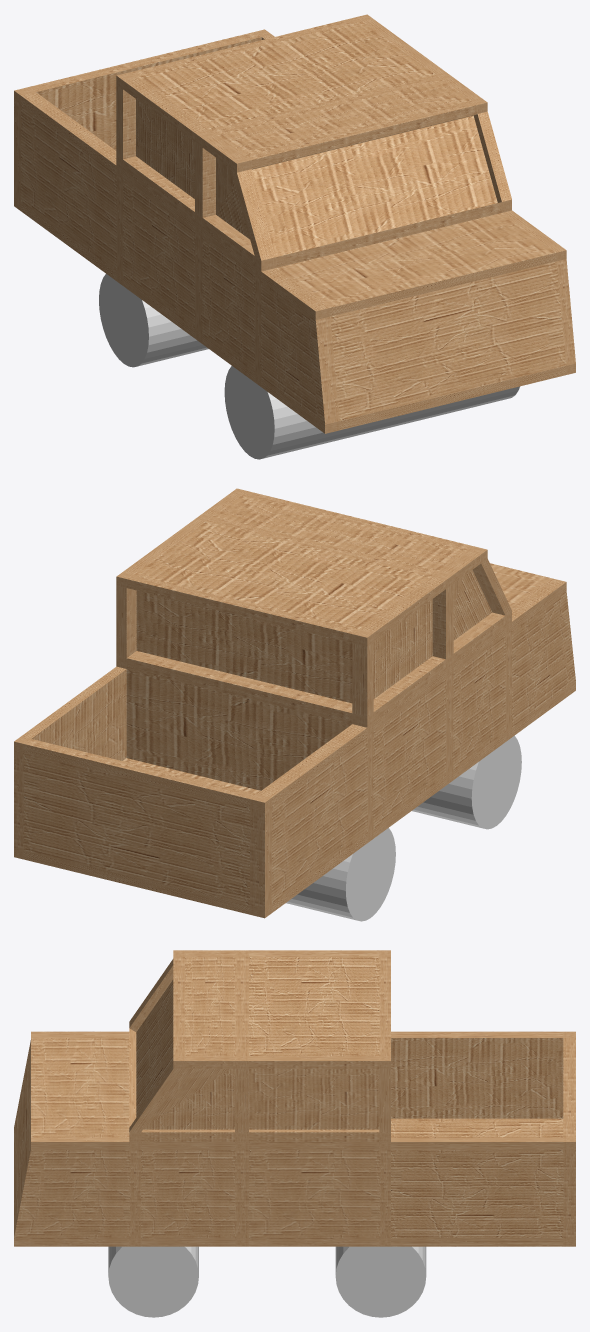
Rendered from truckblend1.fbx.
3 renders of one model, top to bottom at view 1: azimuth 30°, elevation 25°; view 2: azimuth 150°, elevation 25°; view 3: azimuth 270°, elevation 25°, orthographic. The views are drawn at different scales.
Parts seen in each view (by area): view 1: Cube, Cylinder; view 2: Cube, Cylinder; view 3: Cube, Cylinder.
Part boxes in pixels (x1,y1,x2,y2): Cube: [14, 14, 575, 433]; Cylinder: [99, 274, 519, 459]; Cube: [14, 488, 575, 918]; Cylinder: [286, 735, 521, 921]; Cube: [14, 950, 575, 1246]; Cylinder: [108, 1246, 426, 1317].
Bounding box in the file's own units: 200 × 217 × 430.
1 material, 1 textured.
